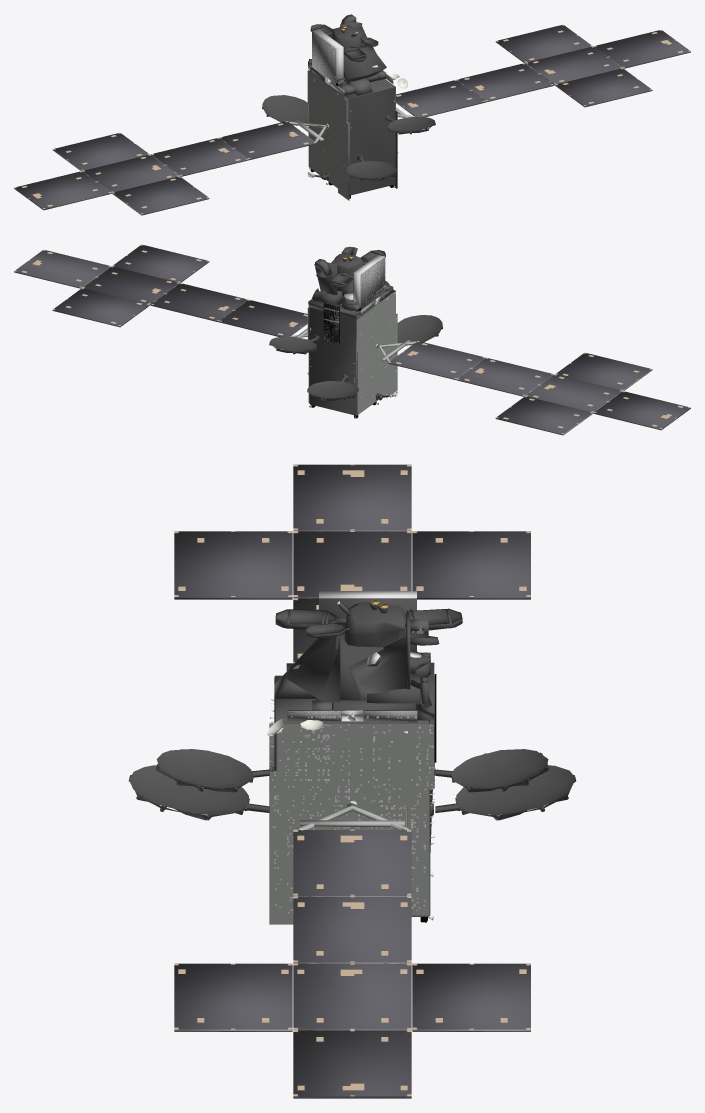
Rendered from bus-ssl1300.glb.
3 views of the same model, one above another, from view 1: azimuth 30°, elevation 25°; view 2: azimuth 150°, elevation 25°; view 3: azimuth 270°, elevation 25° (orthographic). The views are drawn at different scales.
Parts seen in each view (by area): view 1: Empty_Mesh; view 2: Empty_Mesh; view 3: Empty_Mesh.
Part boxes in pixels (x1,y1,x2,y2): Empty_Mesh: [14, 14, 690, 215]; Empty_Mesh: [14, 244, 690, 435]; Empty_Mesh: [128, 464, 576, 1098].
Bounding box in the file's own units: 268 × 61.12 × 80.36.
Materials: 1 (1 with a texture image).
